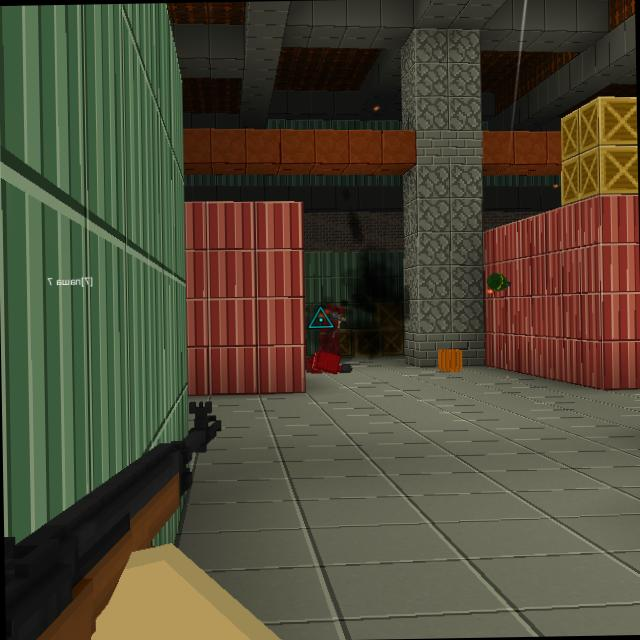enemy: (315, 300, 346, 374)
